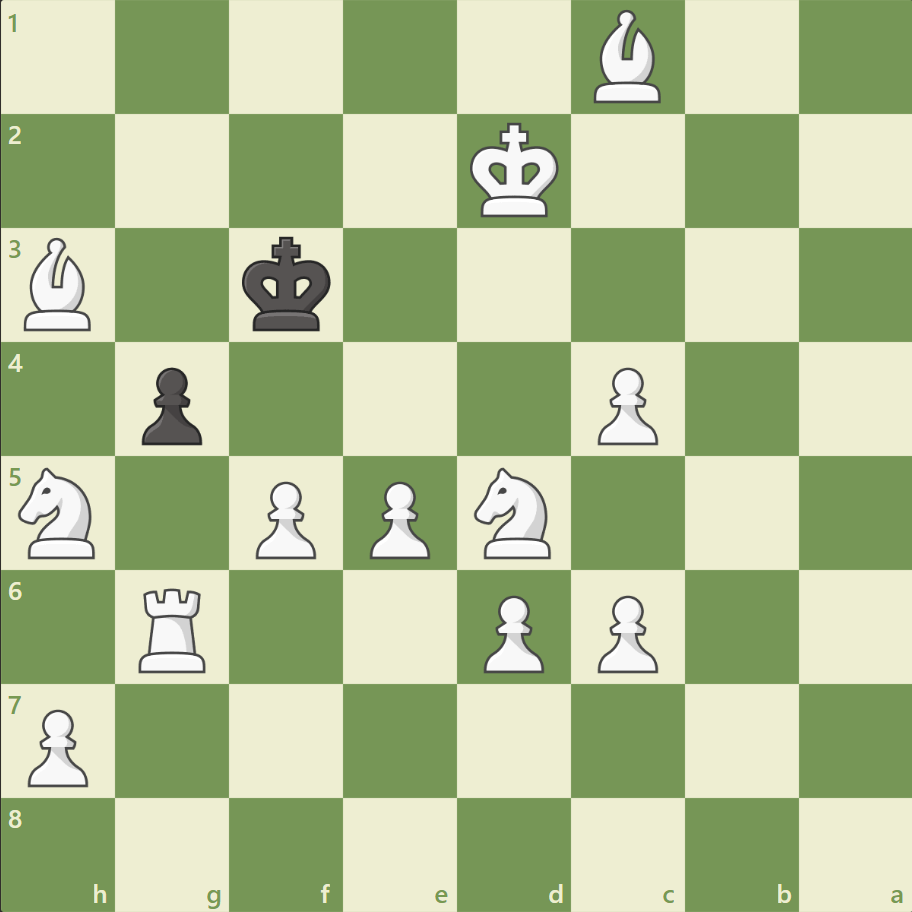B: (17, 233, 101, 336), (585, 6, 669, 109)
K: (465, 117, 565, 225)
N: (465, 461, 562, 564), (11, 461, 108, 564)
P: (20, 700, 95, 791), (474, 586, 549, 677), (247, 473, 322, 564), (588, 586, 662, 677), (361, 473, 435, 564), (588, 359, 662, 450)
R: (133, 579, 215, 676)
k: (238, 231, 338, 339)
p: (133, 359, 208, 450)
